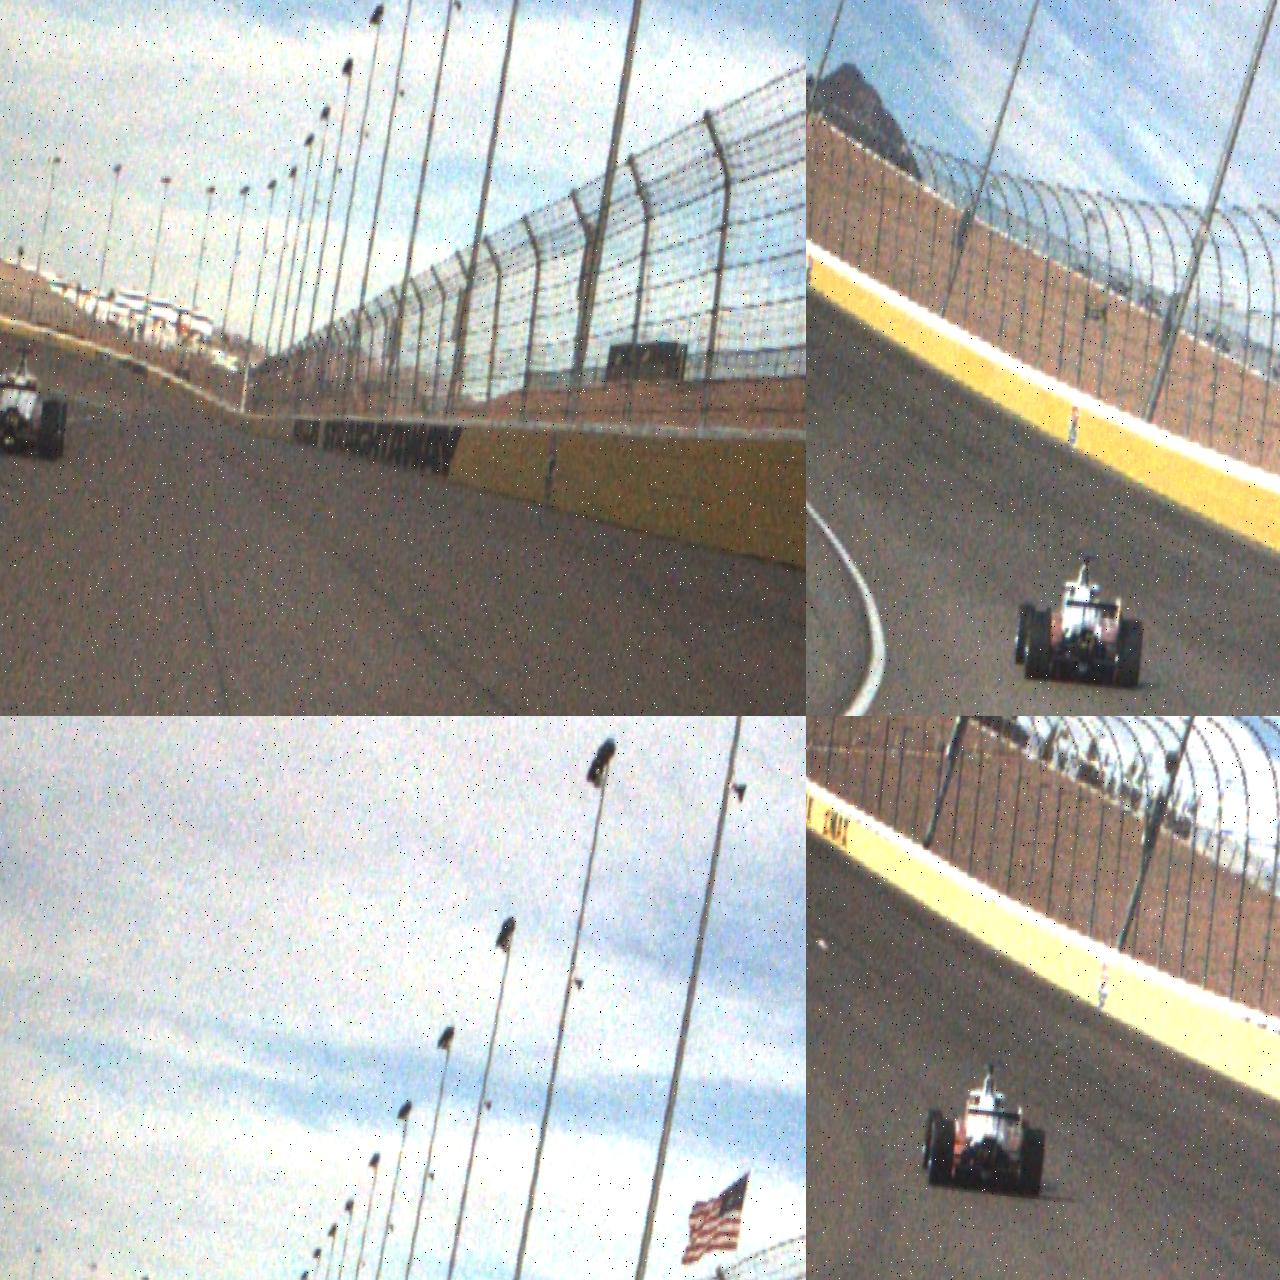AV: (1010, 546, 1151, 692), (919, 1054, 1054, 1198), (0, 342, 74, 463)
Wheel: (1115, 618, 1145, 692), (926, 1118, 958, 1189), (1022, 612, 1051, 681), (1020, 1126, 1047, 1198), (38, 400, 63, 463), (1013, 602, 1037, 667), (921, 1108, 944, 1172)
